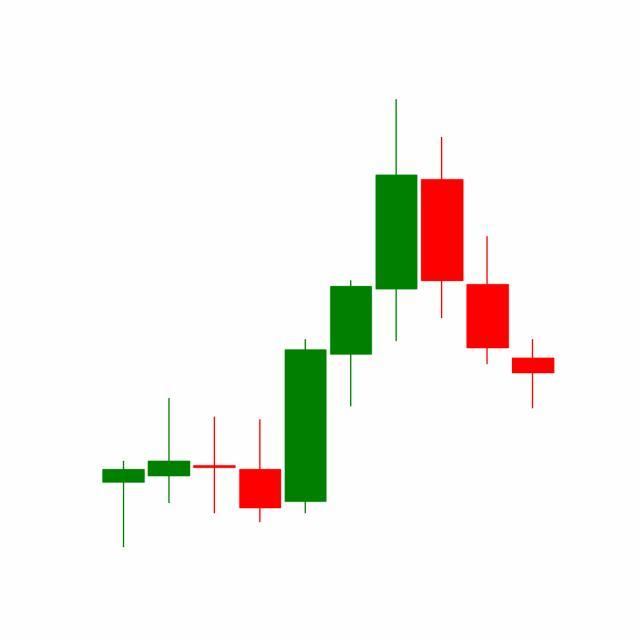Hikkake Pattern: (283, 100, 512, 520)
